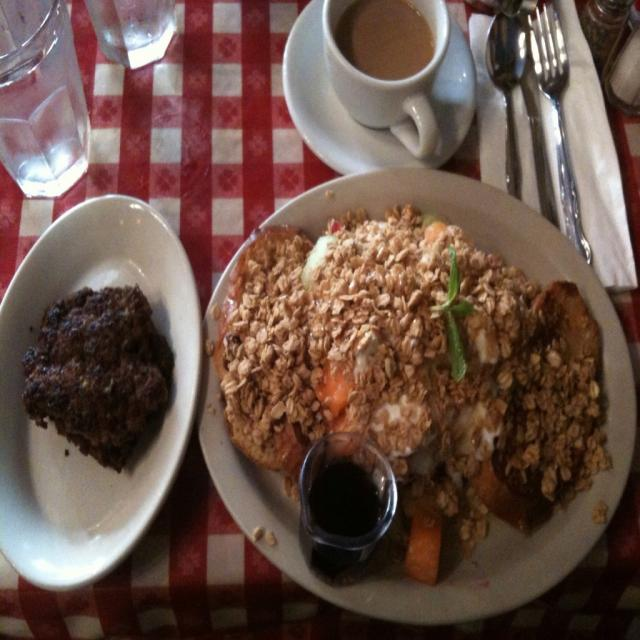Coffee: (329, 0, 439, 84)
Tea: (334, 0, 437, 78)
